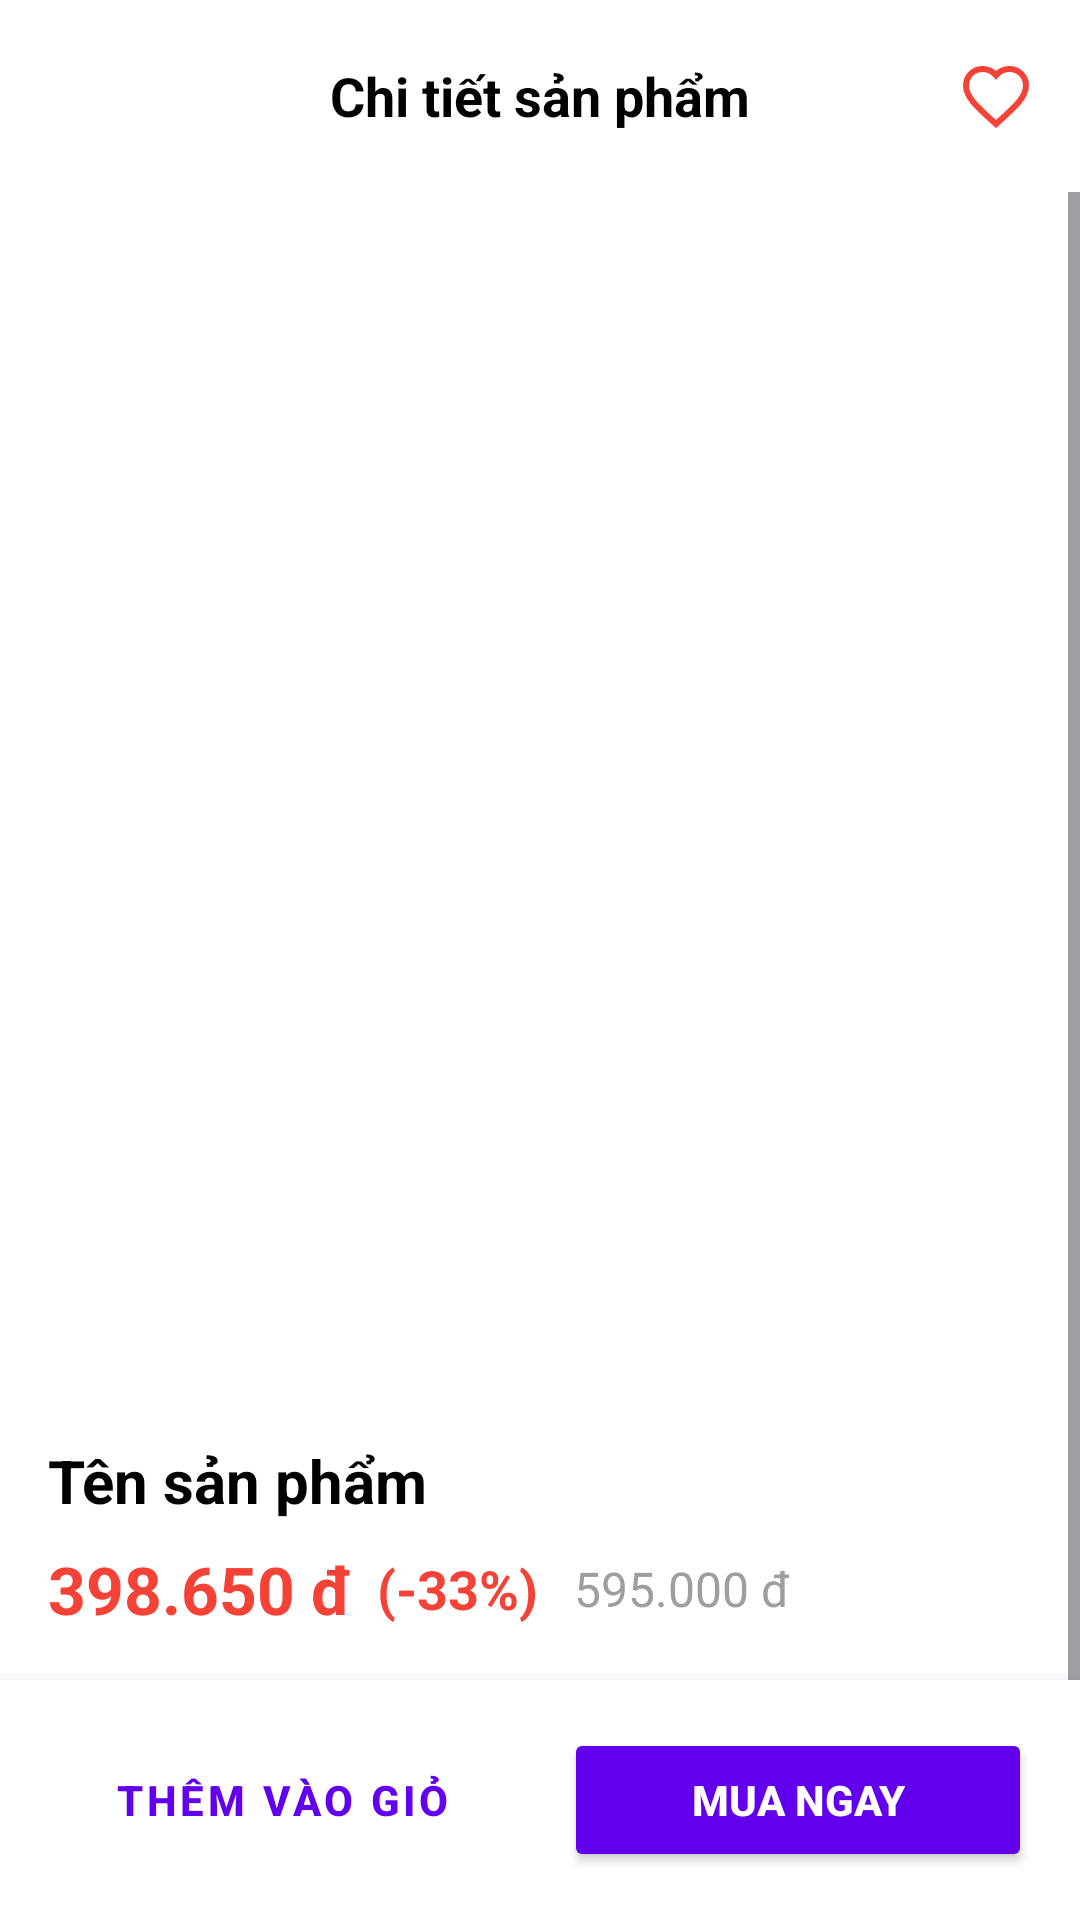

Screen size 1080×1920. Icon name, then its box in pixels as (x1, y1, x2, y2):
favorite border: (963, 66, 1029, 128)
